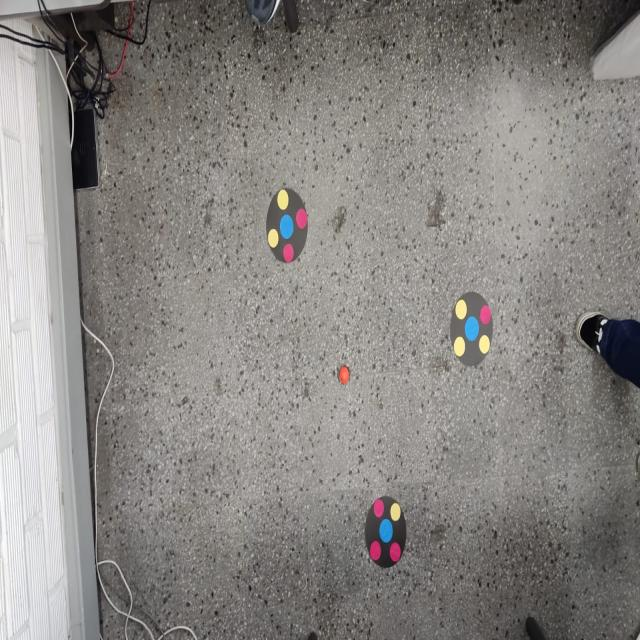0: (365, 496, 407, 568)
1: (266, 186, 308, 263)
2: (450, 292, 494, 366)
Ball: (339, 365, 349, 385)
